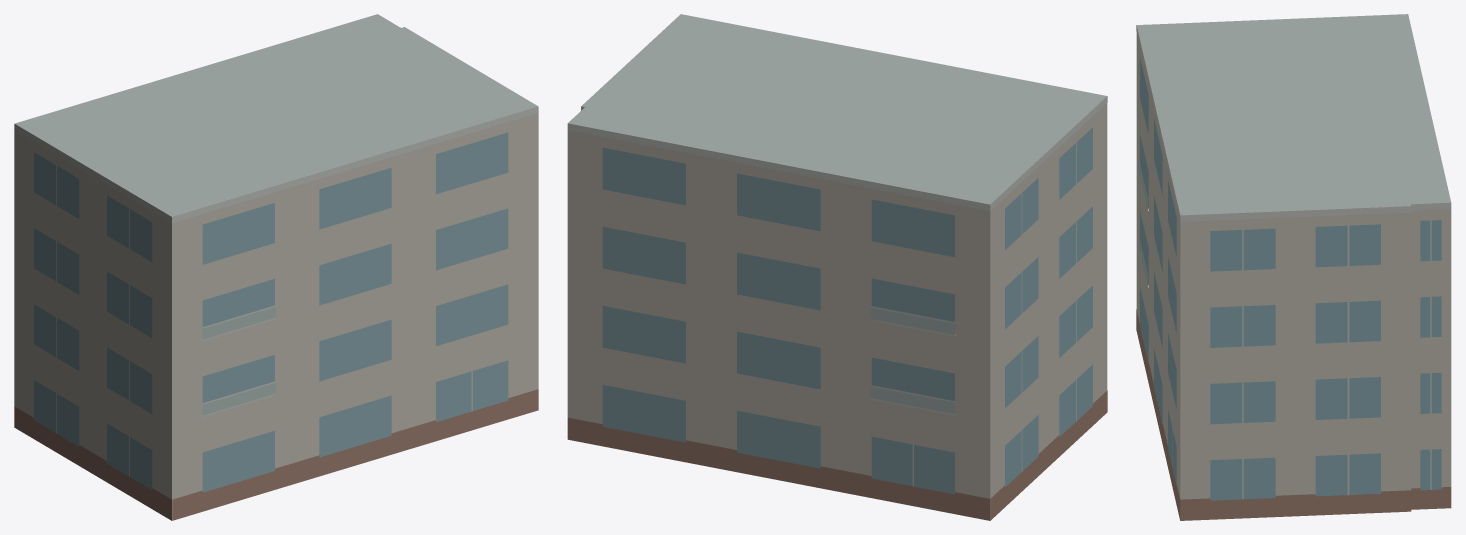
The model's file is survey-upis-32822505.glb.
3 renders of one model, left to right at view 1: azimuth 30°, elevation 25°; view 2: azimuth 150°, elevation 25°; view 3: azimuth 270°, elevation 25°, orthographic. The views are drawn at different scales.
Visible parts, largest first — view 1: survey-upis-32822505.tmp; view 2: survey-upis-32822505.tmp; view 3: survey-upis-32822505.tmp.
Boxes of the visible parts, bbox=[...] form: survey-upis-32822505.tmp: bbox=[14, 14, 538, 520]; survey-upis-32822505.tmp: bbox=[567, 14, 1107, 520]; survey-upis-32822505.tmp: bbox=[1136, 14, 1451, 520].
Bounding box in the file's own units: 16.56 × 11.7 × 10.94.
